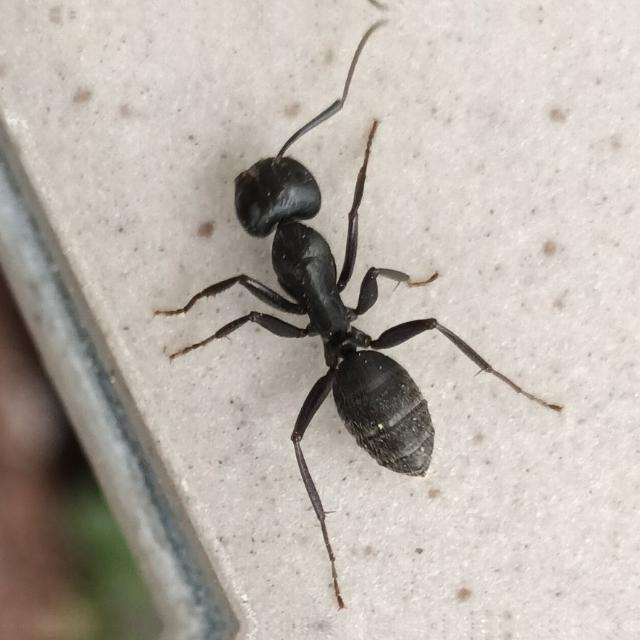Camponotus: (162, 98, 504, 496)
